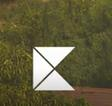Kapital Bank: (30, 44, 77, 91)
